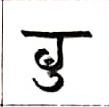u_matra: (32, 72, 65, 93)
